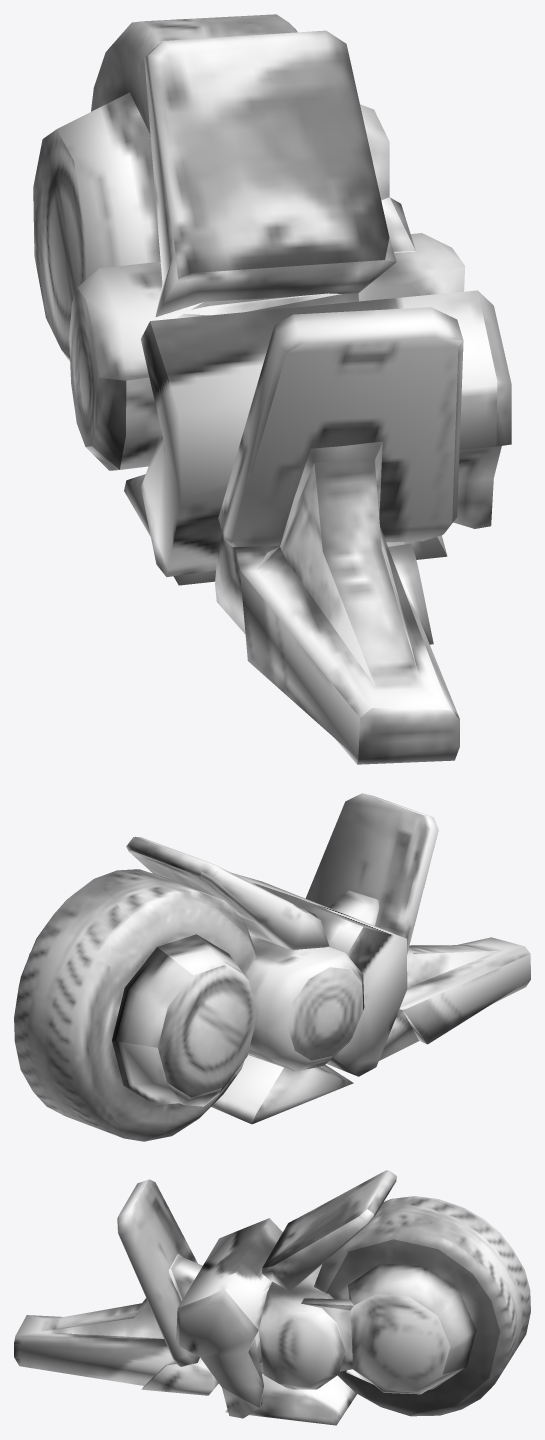
Rendered from r_foot.glb.
3 views of the same model, one above another, from view 1: azimuth 30°, elevation 25°; view 2: azimuth 150°, elevation 25°; view 3: azimuth 270°, elevation 25° (orthographic). The views are drawn at different scales.
Visible parts, largest first — view 1: r_foot; view 2: r_foot; view 3: r_foot.
Part boxes in pixels (box(x1,y1,x2,y2)): r_foot: box(33, 14, 511, 764); r_foot: box(14, 793, 530, 1141); r_foot: box(14, 1170, 530, 1425).
Bounding box in the file's own units: 0.5997 × 0.5947 × 1.3.
3 materials, 3 textured.
